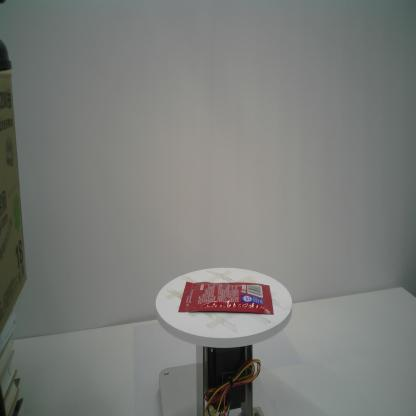Seasoner: (178, 280, 274, 316)
